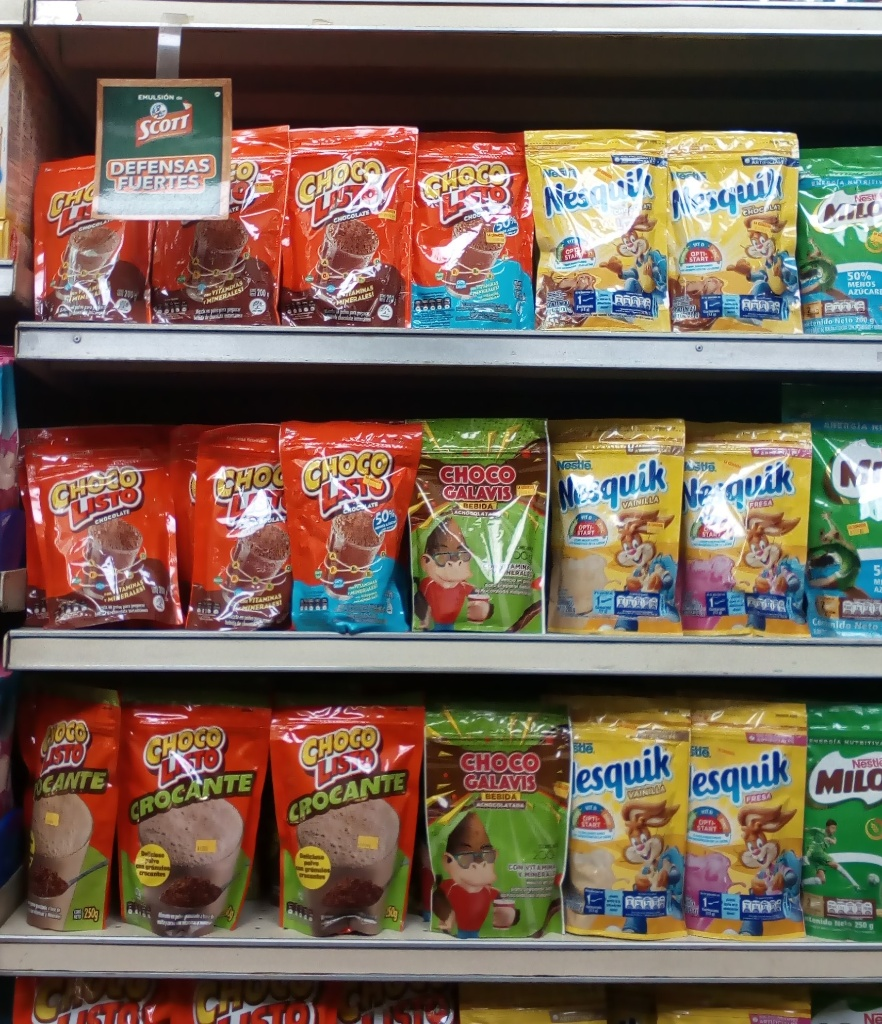COL0170102DYP25000: (268, 691, 423, 939)
COL0170103DYP20000: (285, 119, 411, 330)
COL0170104DYP20000: (417, 127, 528, 332)
COL0170203DYP25000: (805, 696, 879, 942)
COL0170205DYP20000: (795, 127, 882, 333)
COL0170303DYP20000: (657, 127, 804, 338)
COL0170305DYP20000: (681, 416, 811, 636)
COL0170306DYP20000: (553, 412, 685, 638)
